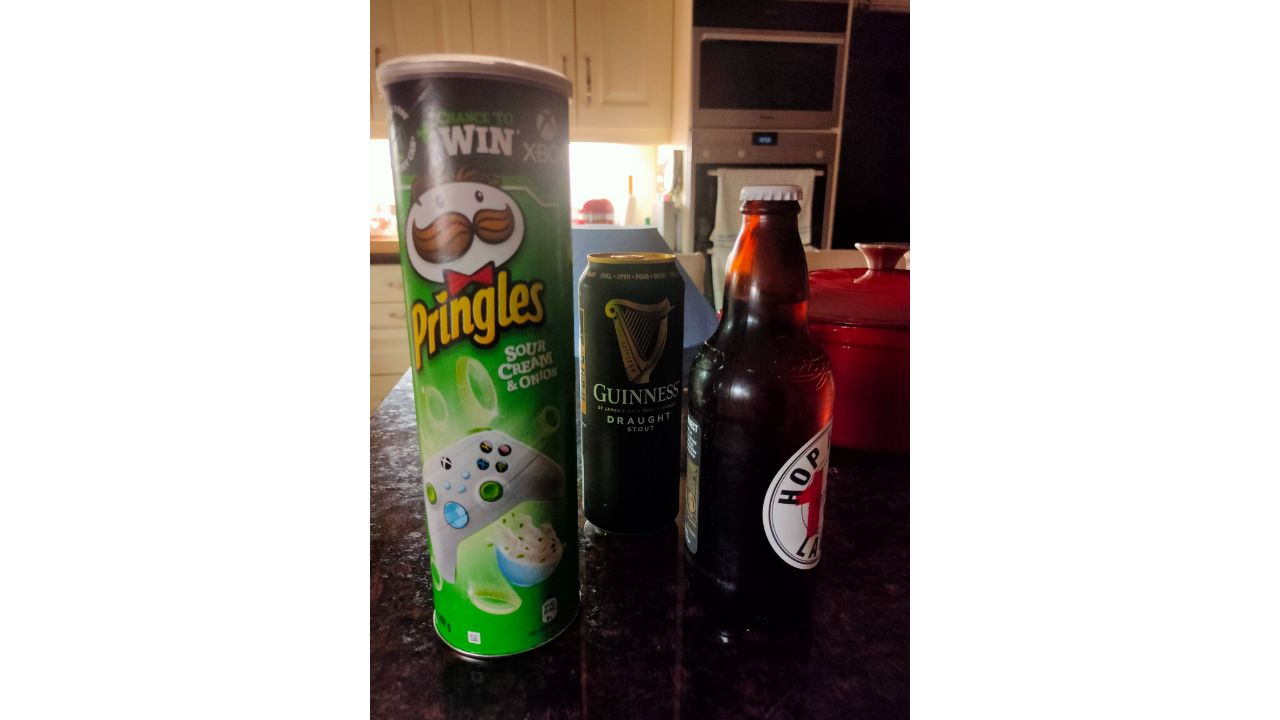Can: (577, 247, 688, 532)
